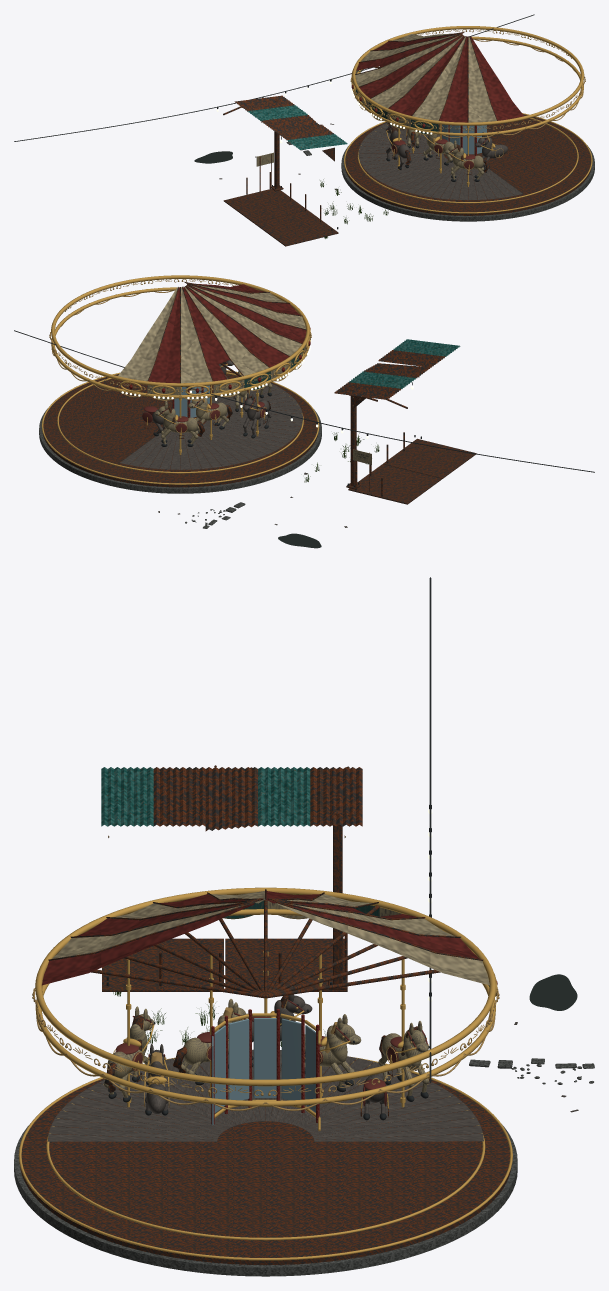
File: SM_Env_Tile_m1_p0.fbx
The picture shows the model from 3 angles, top to bottom: view 1: azimuth 30°, elevation 25°; view 2: azimuth 150°, elevation 25°; view 3: azimuth 270°, elevation 25°; orthographic projection. The views are drawn at different scales.
Parts seen in each view (by area): view 1: SM_Env_Tile_m1_p0; view 2: SM_Env_Tile_m1_p0; view 3: SM_Env_Tile_m1_p0.
Boxes of the visible parts, bbox=[...] form: SM_Env_Tile_m1_p0: bbox=[14, 14, 594, 246]; SM_Env_Tile_m1_p0: bbox=[14, 275, 594, 548]; SM_Env_Tile_m1_p0: bbox=[14, 577, 594, 1276].
Size of what is drawn, in the model's own units: 2912 by 1412 by 716.
19 materials, 11 textured.
